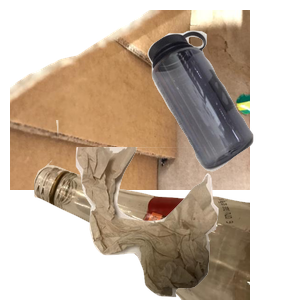cardboard: (10, 10, 250, 190)
glass: (31, 120, 271, 300)
plastic: (145, 28, 300, 192)
trash: (73, 147, 300, 300)
